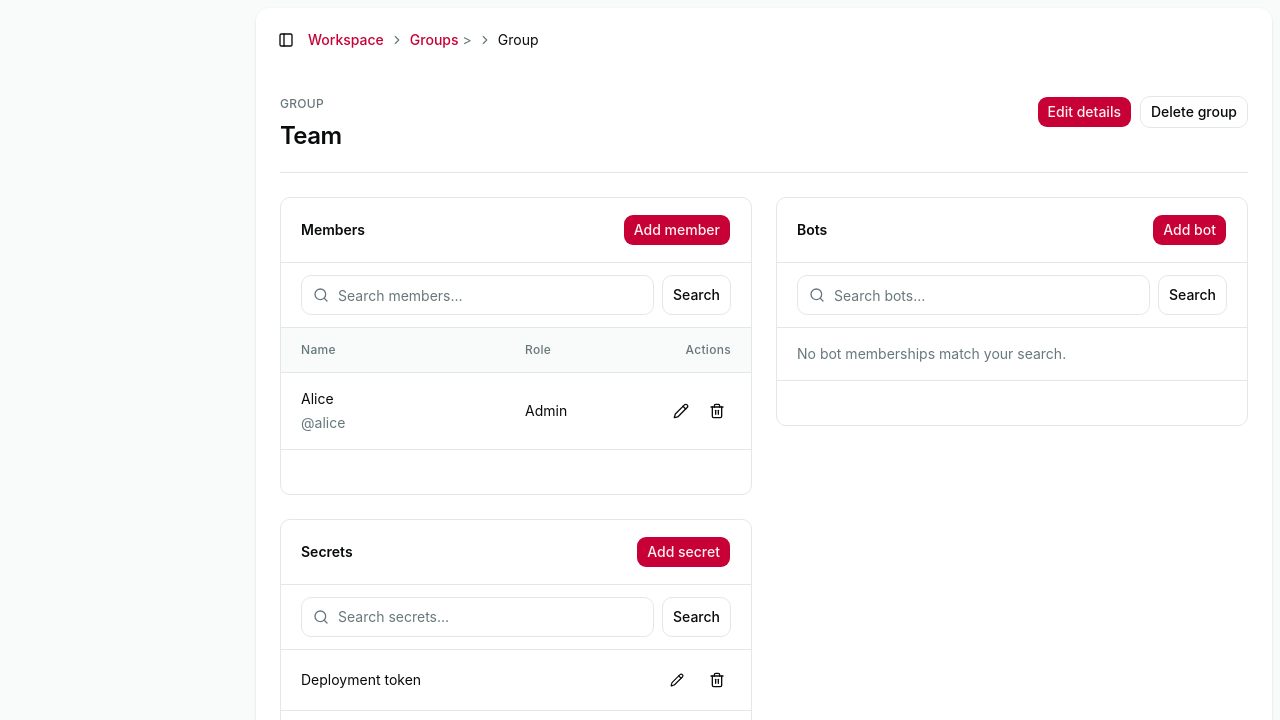
Scenario: preserves role drafts and revisions across refreshes and shows failed saves only in the editor
Click the button named "Edit Alice" at (681, 410), box [667, 396, 695, 424]
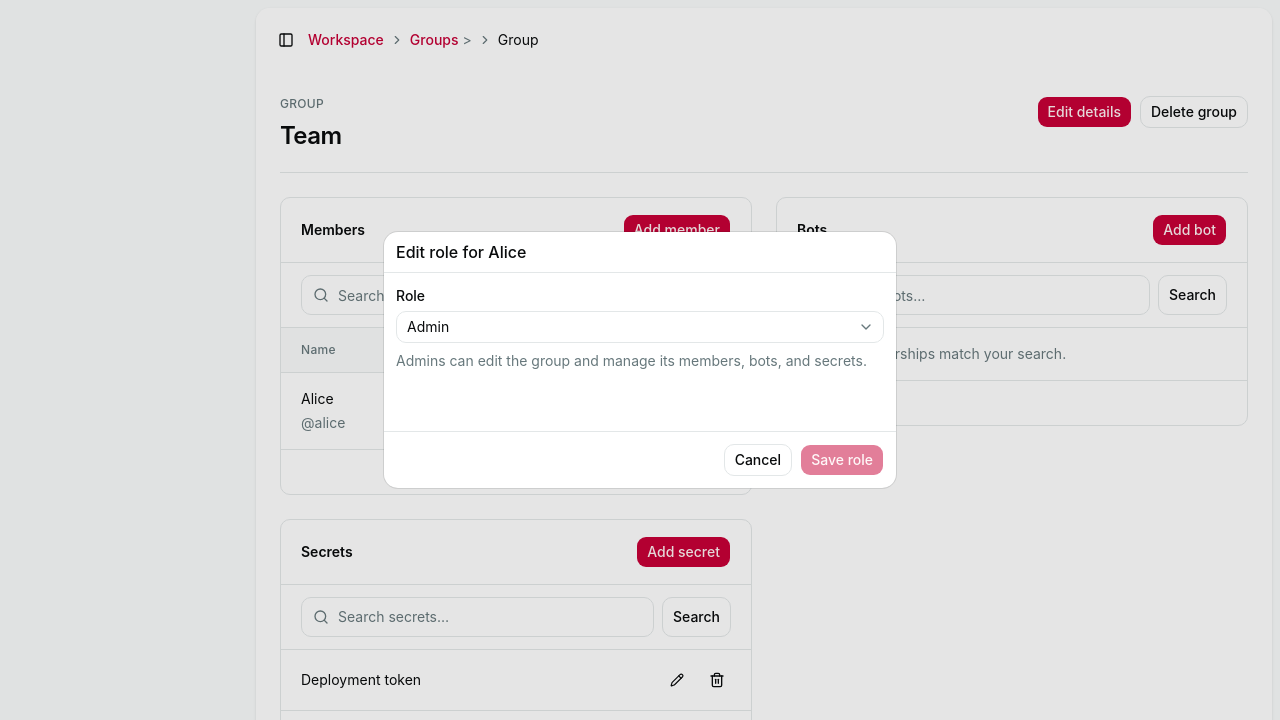
Expected: the heading "Edit role for Alice" is shown, [396, 242, 526, 262]
Select "Member" in the dropdown labelled "Role" at (640, 327), box [396, 311, 884, 343]
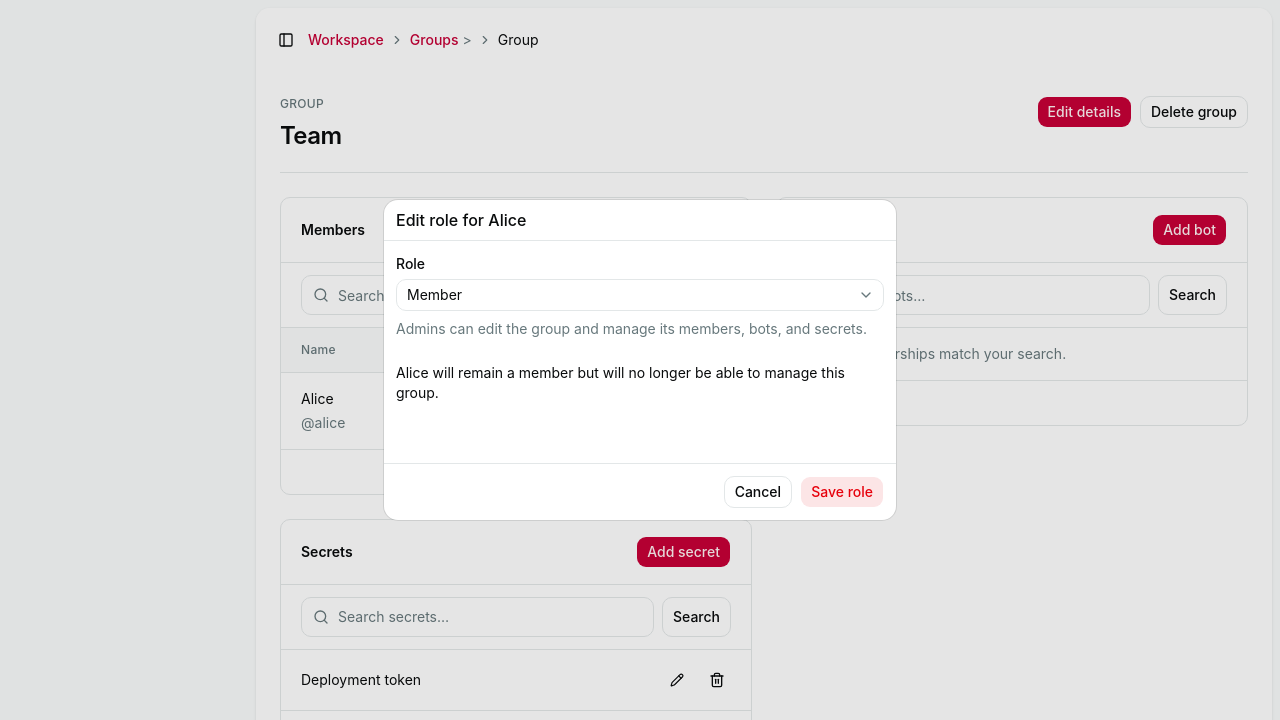
Expected: the button "Save role" is shown
Click the button "Save role" at (842, 492), box [800, 476, 884, 508]
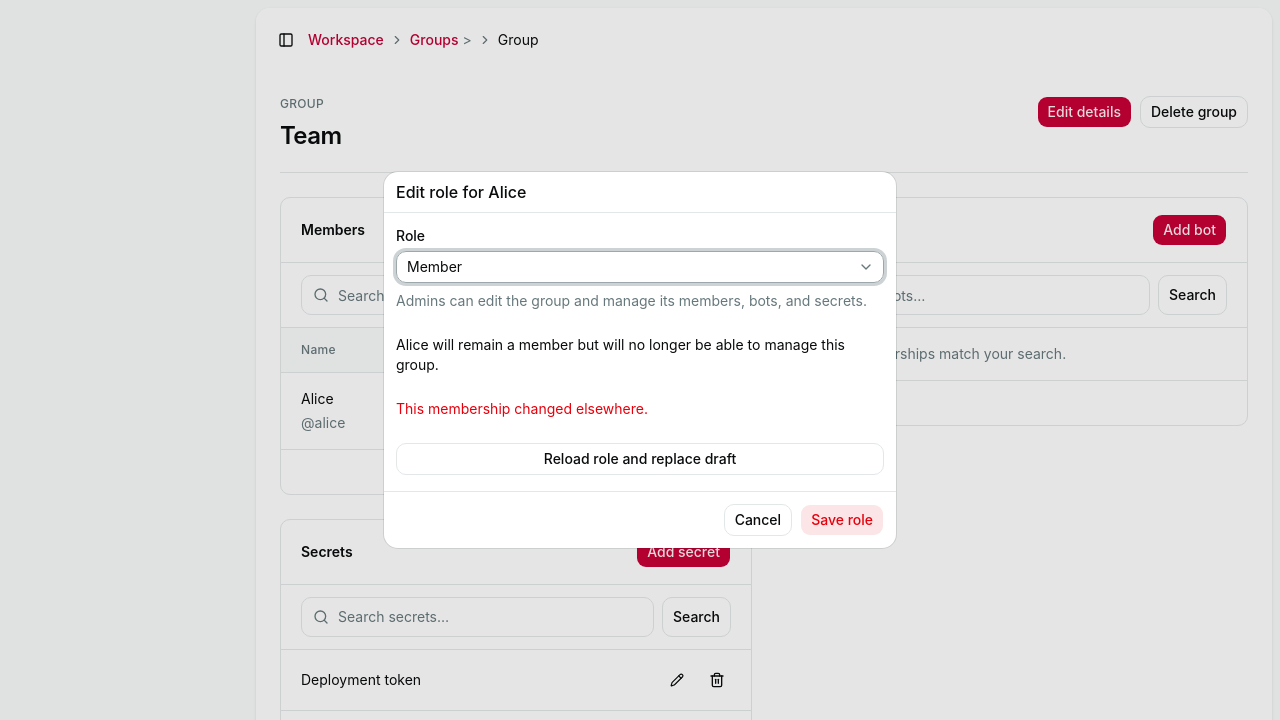
Expected: the dialog shows "This membership changed elsewhere.", [396, 400, 648, 417]
Expected: the button "Reload role and replace draft" is shown
Click the button "Reload role and replace draft" at (640, 459), box [396, 443, 884, 475]
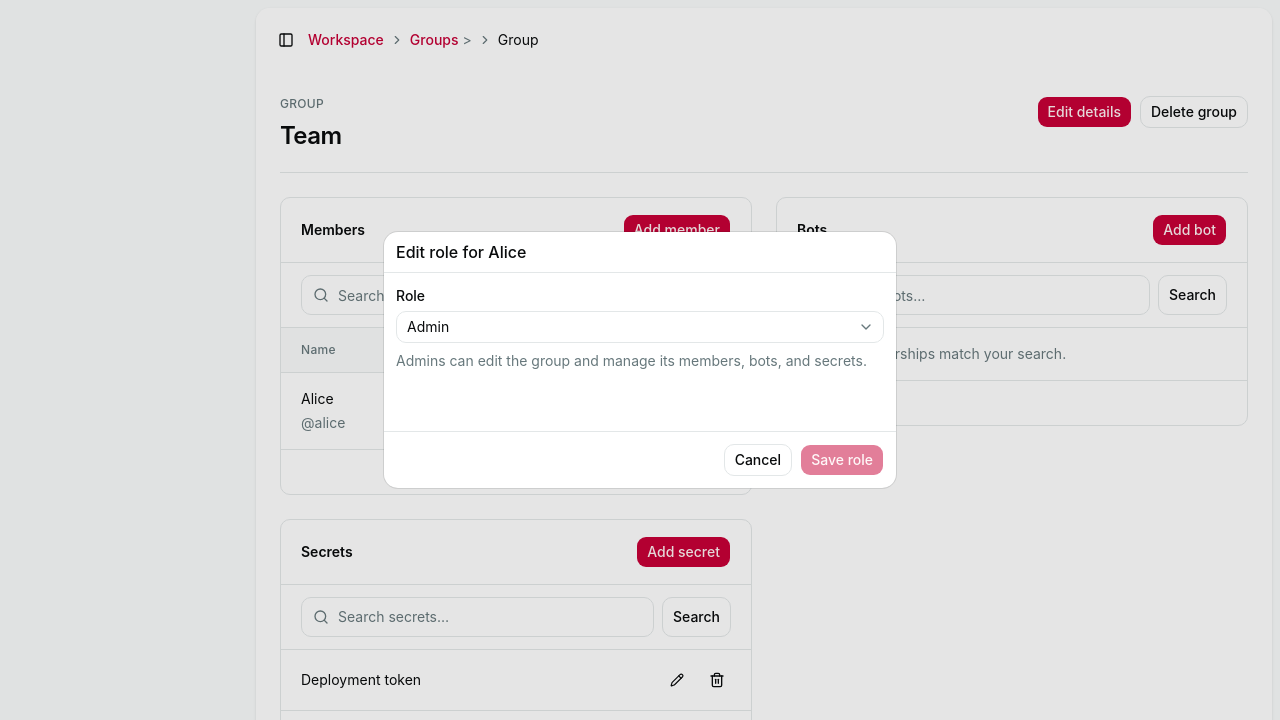
Expected: the button "Save role" is disabled, [800, 444, 884, 476]
